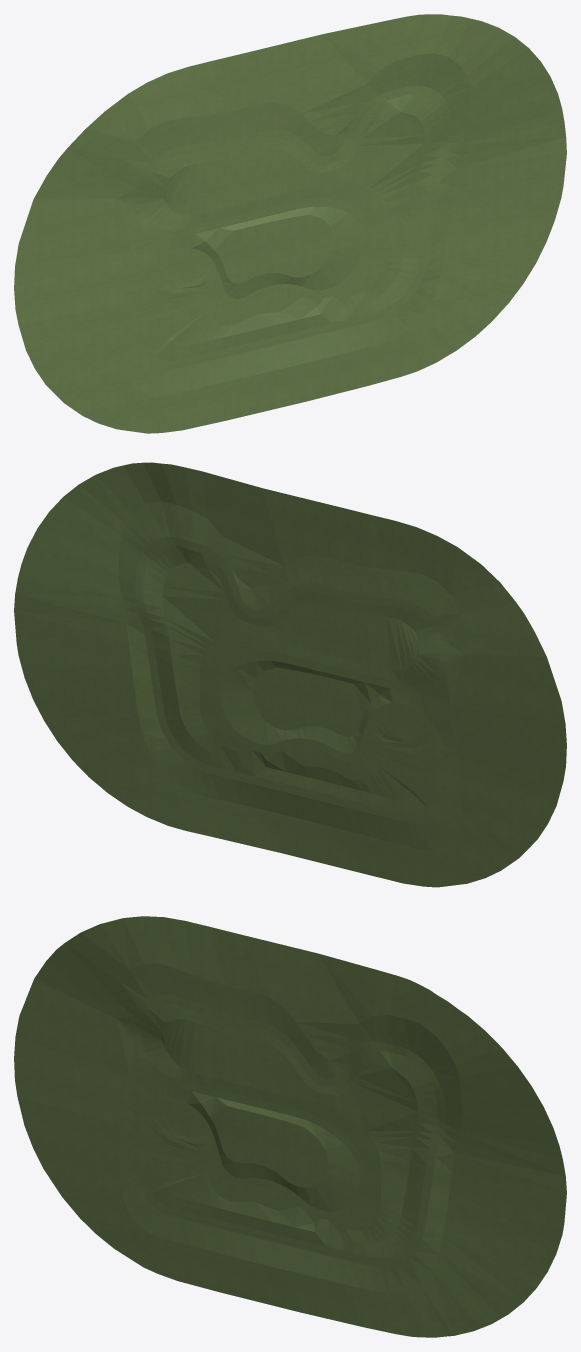
Rendered from road_course.obj.
The picture shows the model from 3 angles, top to bottom: view 1: azimuth 30°, elevation 25°; view 2: azimuth 150°, elevation 25°; view 3: azimuth 330°, elevation 25°; orthographic projection.
Parts seen in each view (by area): view 1: (null); view 2: (null); view 3: (null).
Part boxes in pixels (box(x1,y1,x2,y2)): (null): box(14, 14, 566, 433); (null): box(14, 462, 566, 887); (null): box(14, 916, 566, 1337).
Size of the model in its own units: 848 by 530 by 20.81.
1 material, 1 textured.
